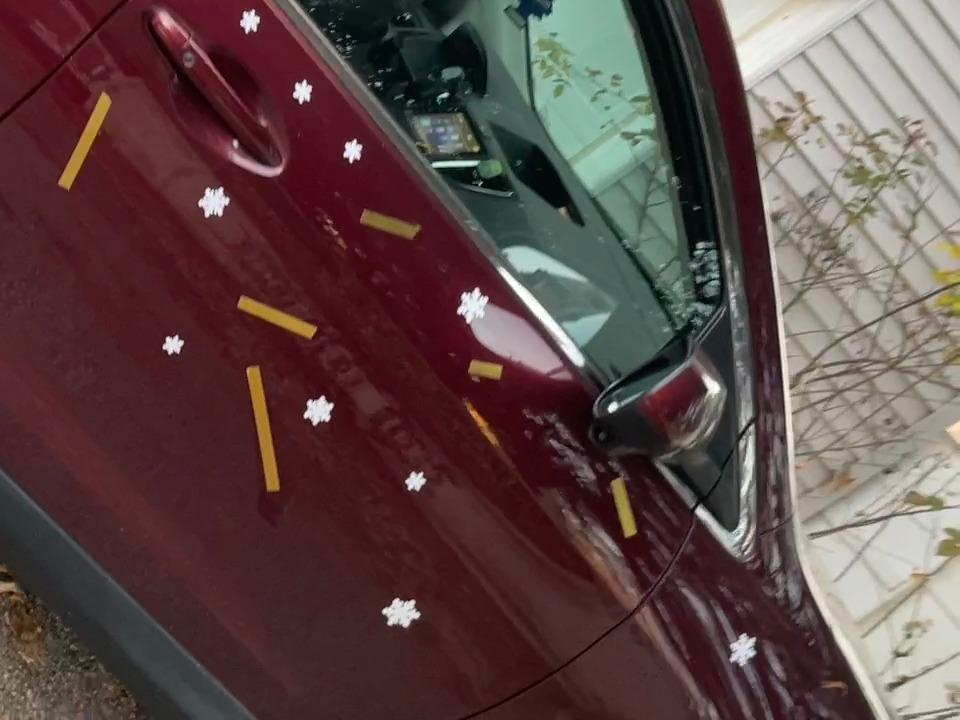dent: (377, 594, 428, 632), (721, 629, 763, 669), (194, 184, 234, 225), (454, 284, 492, 326), (300, 389, 338, 429), (338, 133, 369, 169), (289, 76, 317, 111), (400, 465, 429, 496), (237, 6, 263, 36), (160, 330, 187, 357)
scratch: (231, 364, 291, 504), (54, 91, 119, 193), (235, 283, 327, 347), (351, 201, 432, 247), (606, 472, 647, 543), (461, 351, 513, 382)
